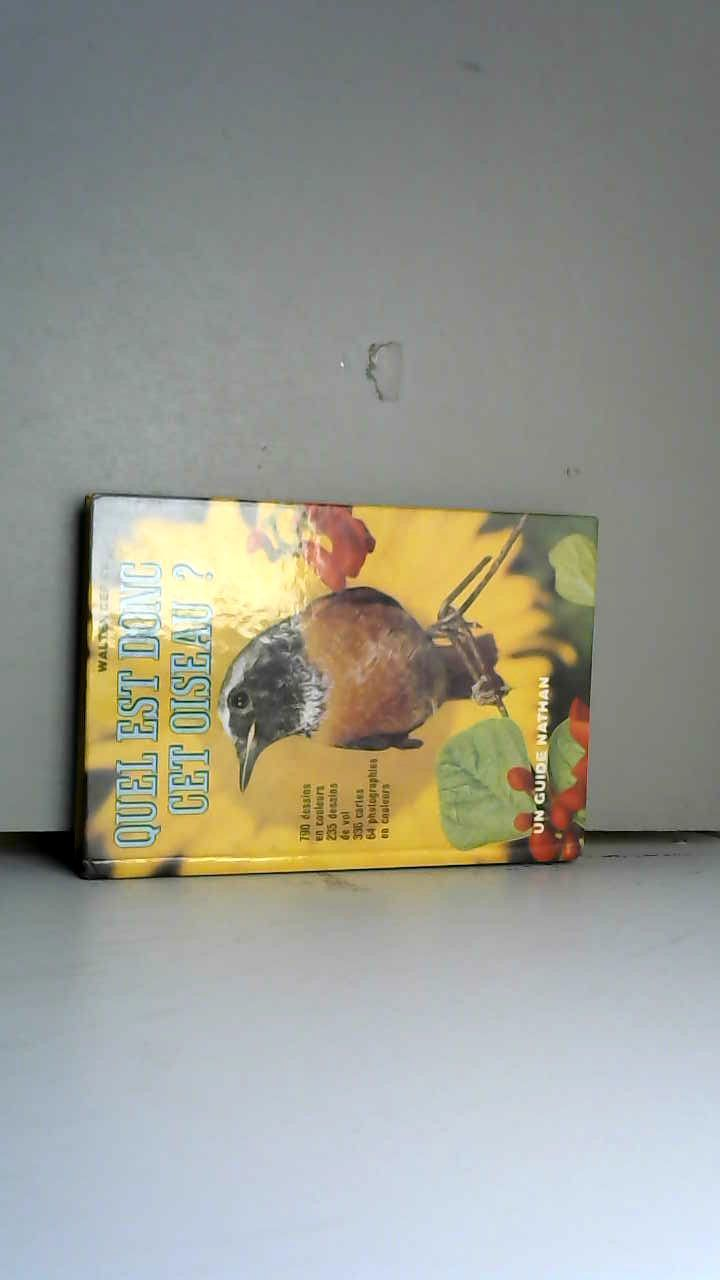book: (60, 469, 608, 901)
